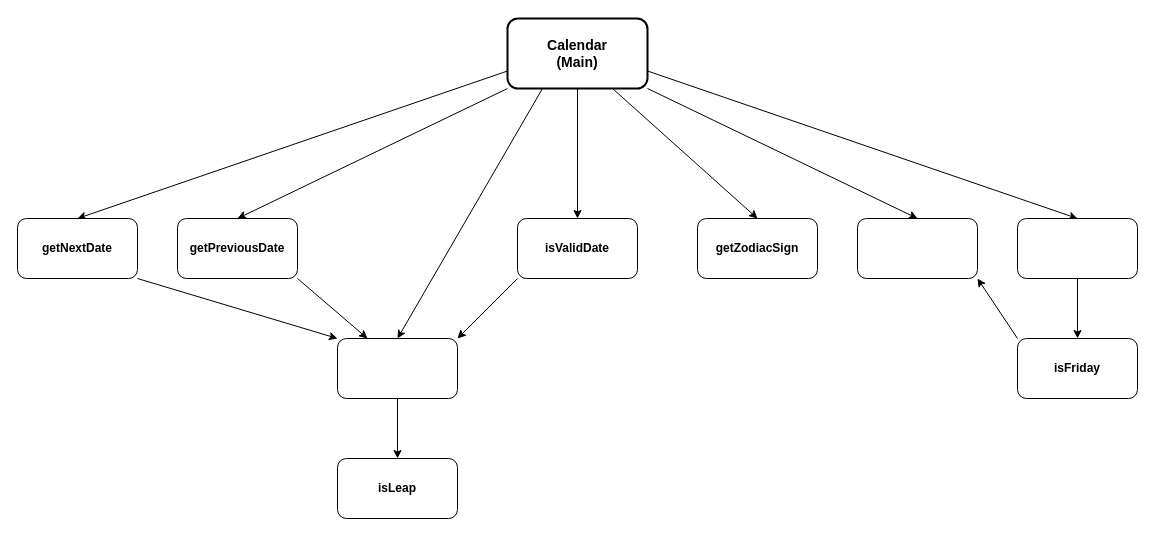
Image size: 1155x536. Some labels were removed from this diagram. Here are the shapes that lost their labels. From the top down, the box of each, then its label:
(856, 218, 978, 278): getDayOfWeek
(1016, 218, 1138, 278): friday13th
(336, 338, 458, 398): lastDayOfMonth
